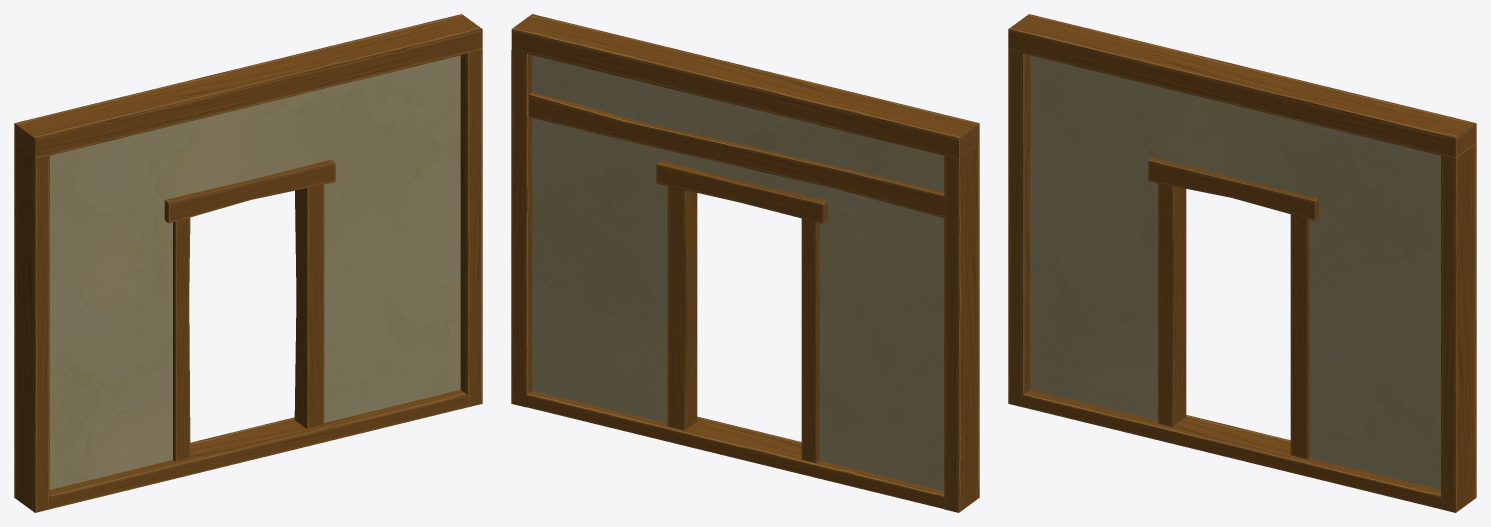
File: SM_House_Wall_5x4_Door_B_02.fbx
3 views of the same model, side by side, from view 1: azimuth 30°, elevation 25°; view 2: azimuth 150°, elevation 25°; view 3: azimuth 330°, elevation 25° (orthographic).
Parts seen in each view (by area): view 1: SM_House_Wall_5x4_Door_B_02; view 2: SM_House_Wall_5x4_Door_B_02; view 3: SM_House_Wall_5x4_Door_B_02.
Boxes of the visible parts, x1,y1,x2,y2 form: SM_House_Wall_5x4_Door_B_02: (14, 14, 482, 512); SM_House_Wall_5x4_Door_B_02: (511, 14, 979, 512); SM_House_Wall_5x4_Door_B_02: (1008, 14, 1476, 512).
Size of the model in its own units: 5 by 4 by 0.4024.
